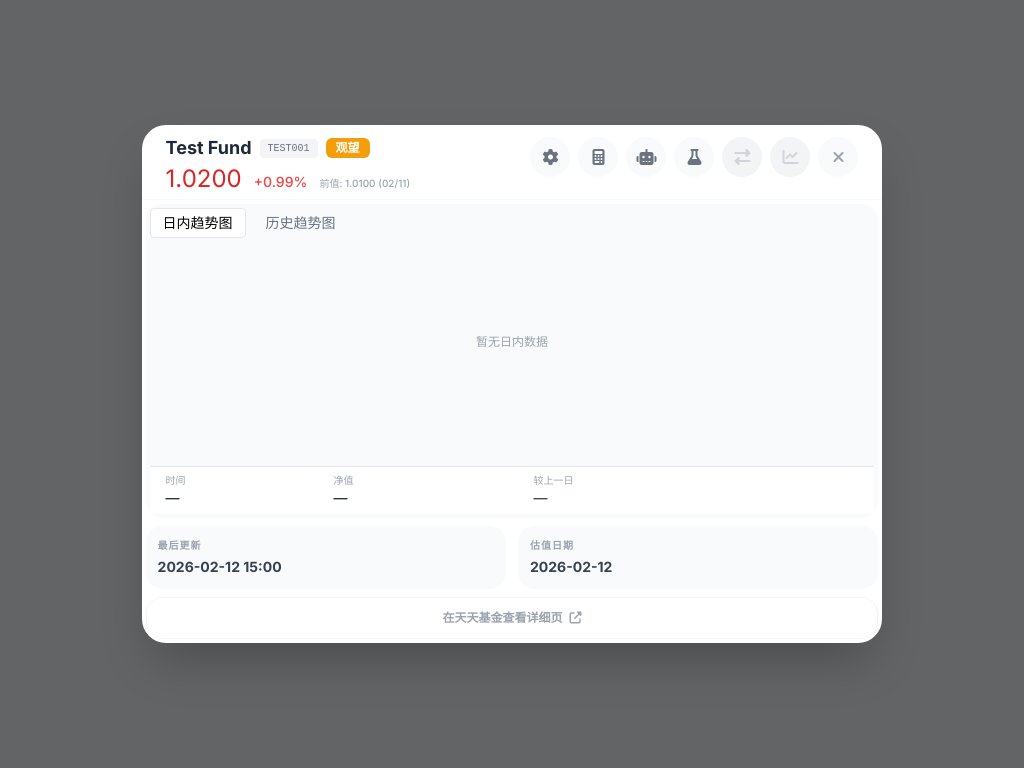
position config persistence and UI › by default no position displayed and modal can save/show values
Expected: the text "满仓" is not shown
# open config modal
Click the button named "基金设置": (550, 157) [530,137,570,177]
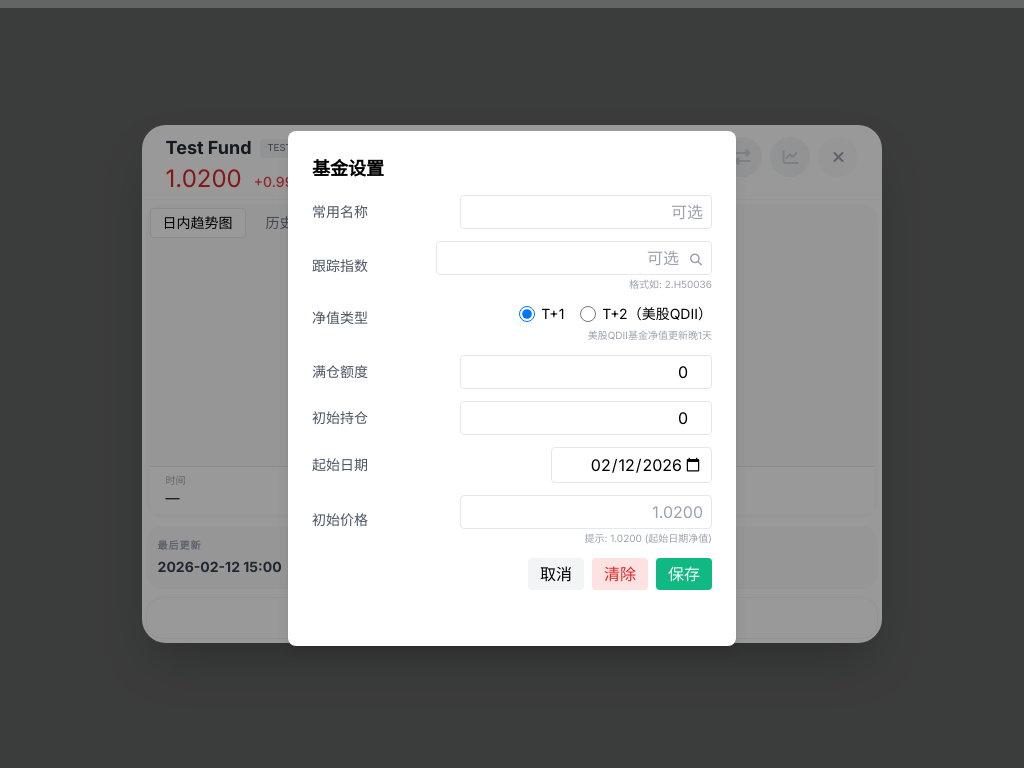
Replace the text in the number field named "modal-full" with "100": (586, 372) [460,354,712,388]
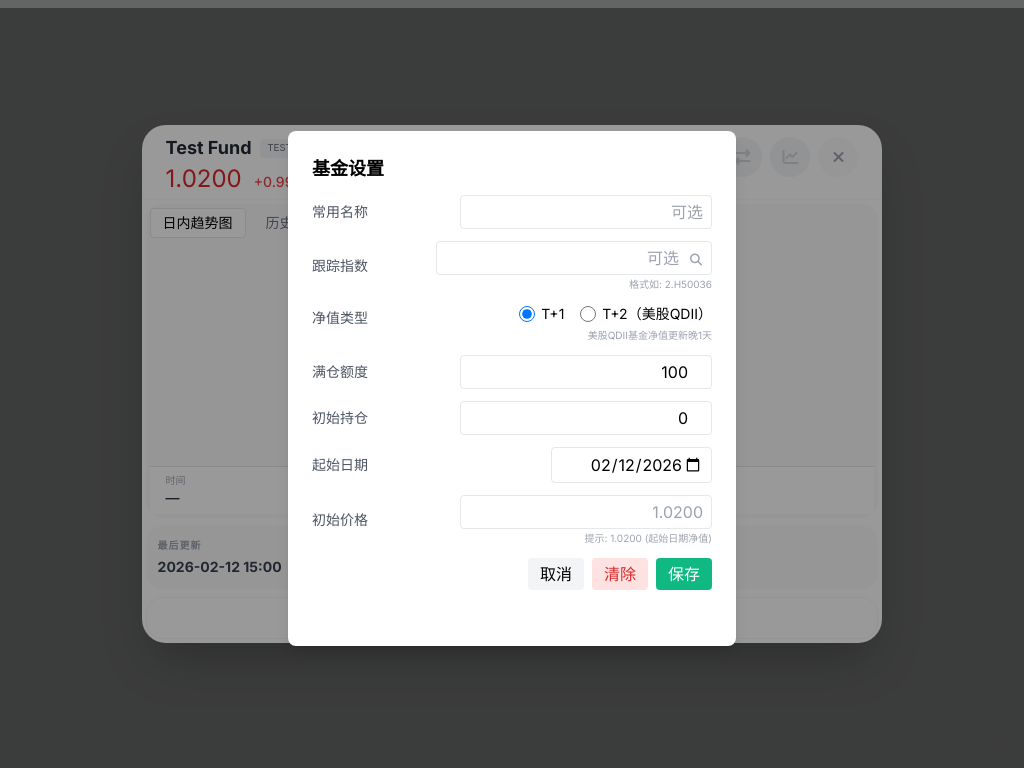
Replace the text in the number field named "modal-initial" with "25": (586, 418) [460,400,712,434]
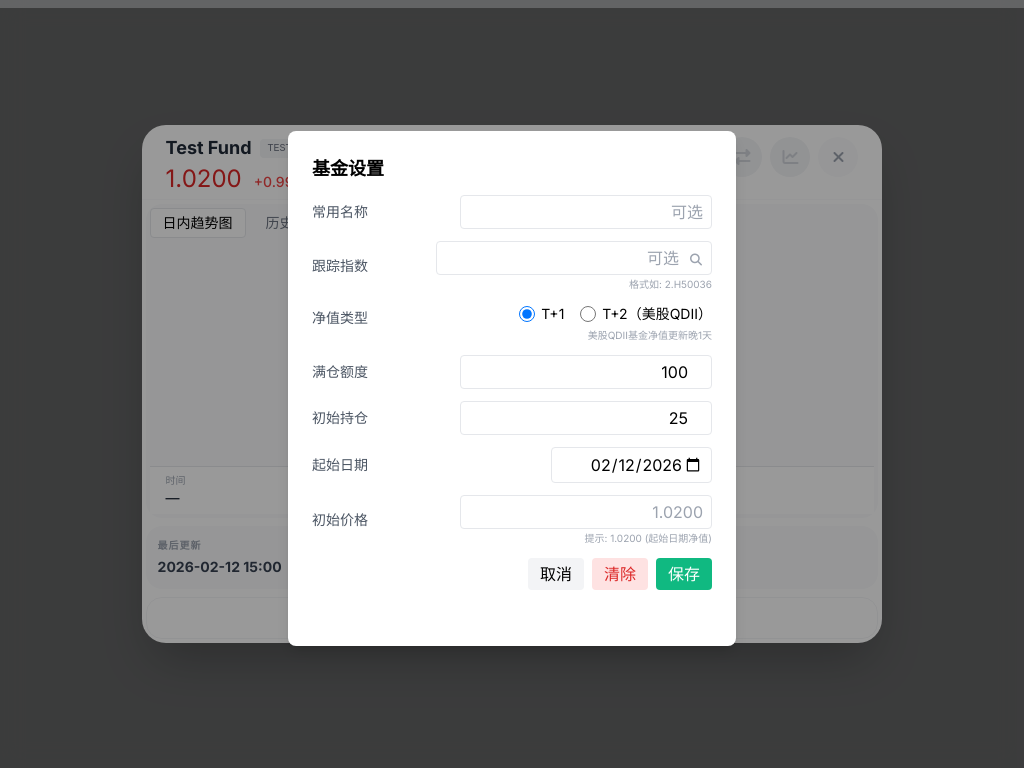
Click the button "保存": (684, 574) [656,558,712,590]
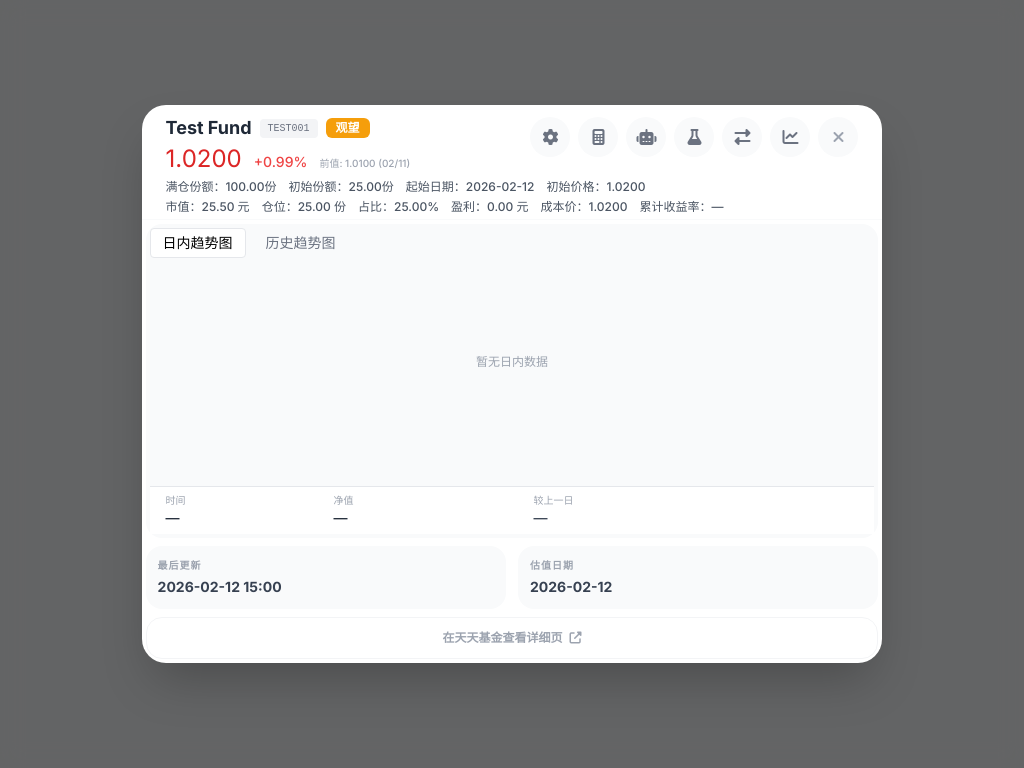
Now the text "满仓份额：100.00份" is shown, box [166,179,277,195]
Now the text "100.00份" is shown, box [226,179,277,194]
Now the text "初始份额：25.00份" is shown, box [289,179,394,195]
